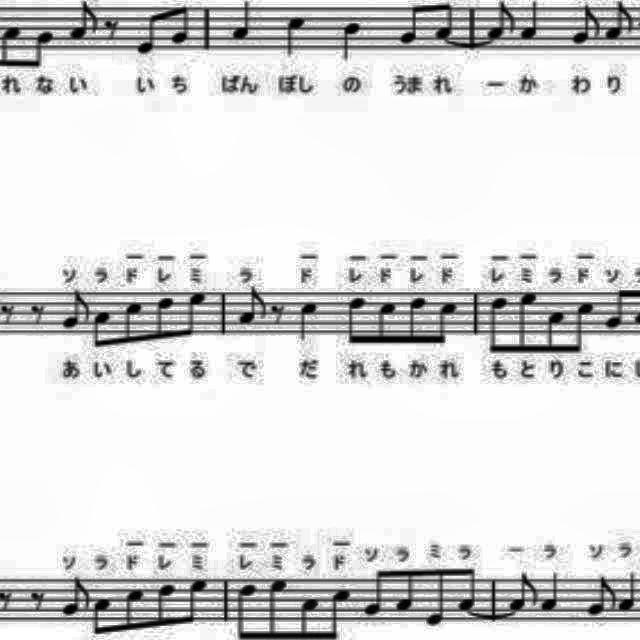Eighth-note: (264, 576, 296, 640), (564, 298, 600, 354), (513, 292, 543, 356), (128, 9, 164, 61), (66, 0, 104, 48), (422, 564, 450, 628), (56, 286, 92, 334), (236, 282, 272, 330), (234, 579, 262, 640), (568, 1, 602, 51), (340, 291, 368, 351), (485, 294, 511, 358), (328, 584, 357, 640), (23, 25, 57, 71), (432, 297, 462, 347), (363, 567, 393, 617), (58, 575, 92, 619), (506, 568, 540, 612), (184, 576, 212, 628), (484, 0, 520, 40), (604, 1, 636, 45), (586, 574, 618, 618), (404, 292, 428, 350), (294, 595, 324, 640), (542, 310, 570, 358), (601, 285, 629, 333), (152, 582, 180, 630), (121, 296, 147, 346), (394, 0, 422, 46), (168, 1, 194, 49), (154, 290, 178, 342), (122, 583, 146, 635), (394, 566, 418, 618), (456, 562, 479, 614), (430, 0, 458, 42), (187, 289, 210, 339), (376, 298, 399, 348), (91, 302, 113, 350), (91, 591, 112, 640)
Eighth-rest: (99, 16, 125, 48), (267, 296, 289, 328), (24, 588, 48, 616), (26, 298, 49, 326)
Quarter-note: (282, 11, 310, 59), (336, 18, 364, 66), (538, 572, 566, 616), (294, 299, 322, 343), (229, 0, 255, 44), (616, 568, 638, 614), (520, 2, 544, 42)
